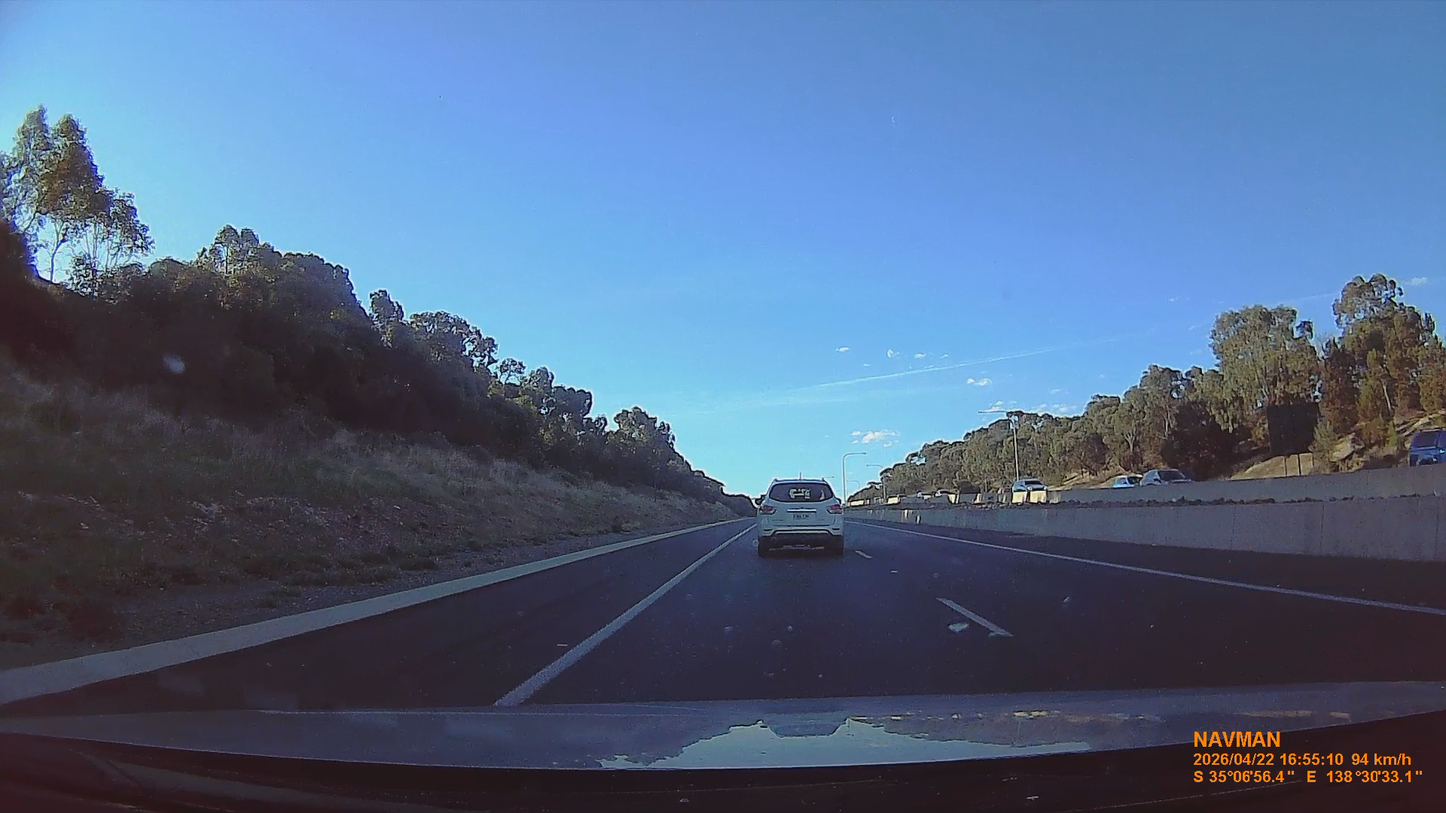road barriers: (848, 495, 1445, 562)
